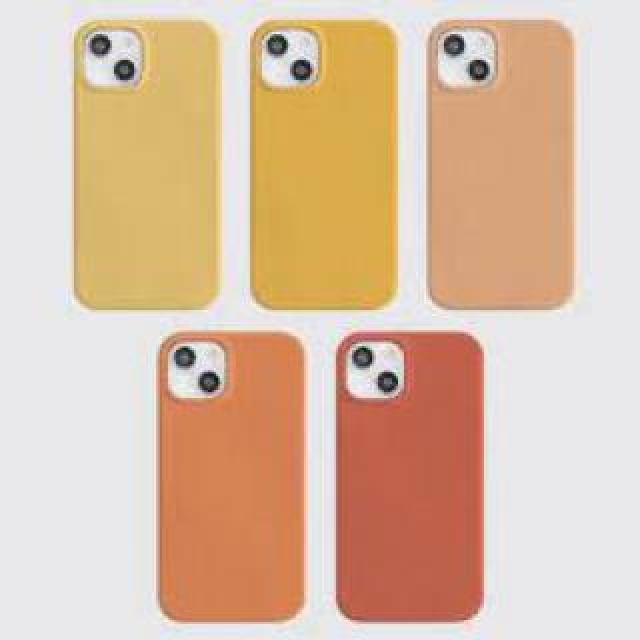smart phone: (138, 323, 314, 640), (340, 315, 518, 627), (420, 13, 587, 320), (67, 4, 228, 318), (244, 9, 398, 324)
